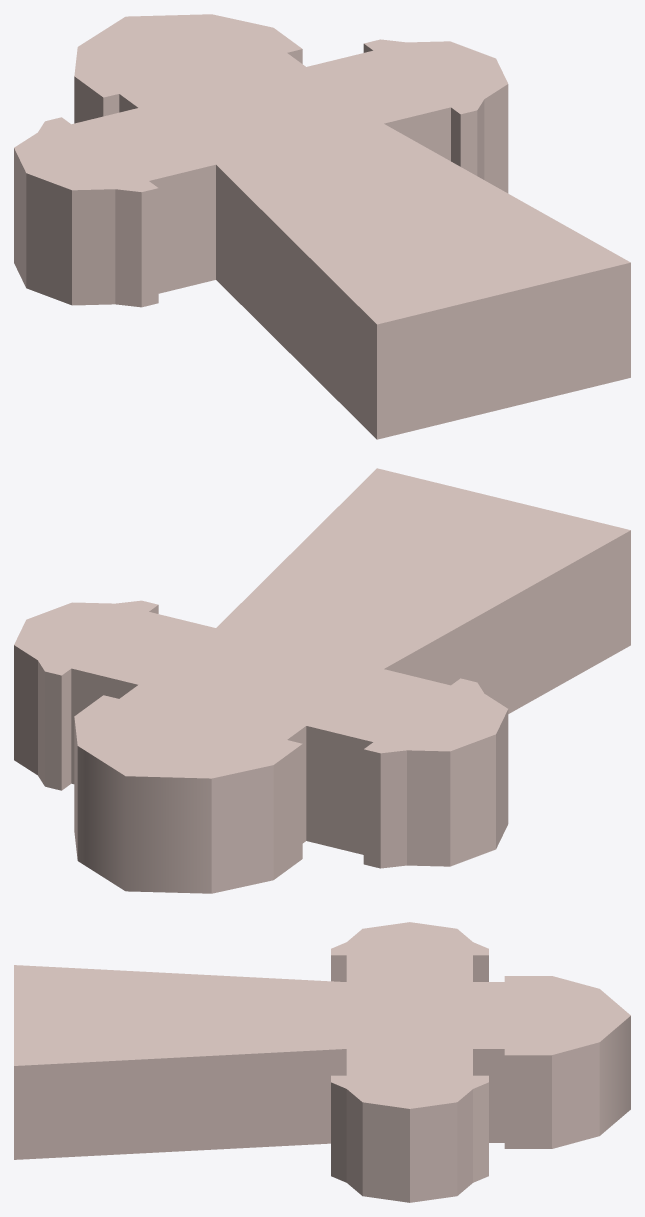
The picture shows the model from 3 angles, top to bottom: view 1: azimuth 30°, elevation 25°; view 2: azimuth 150°, elevation 25°; view 3: azimuth 270°, elevation 25°; orthographic projection. The views are drawn at different scales.
Parts seen in each view (by area): view 1: Object55; view 2: Object55; view 3: Object55.
Part boxes in pixels (bbox=[...]): Object55: bbox=[14, 14, 630, 439]; Object55: bbox=[14, 468, 630, 893]; Object55: bbox=[14, 922, 630, 1202].
Size of the model in its own units: 28003 by 6562 by 39070.
